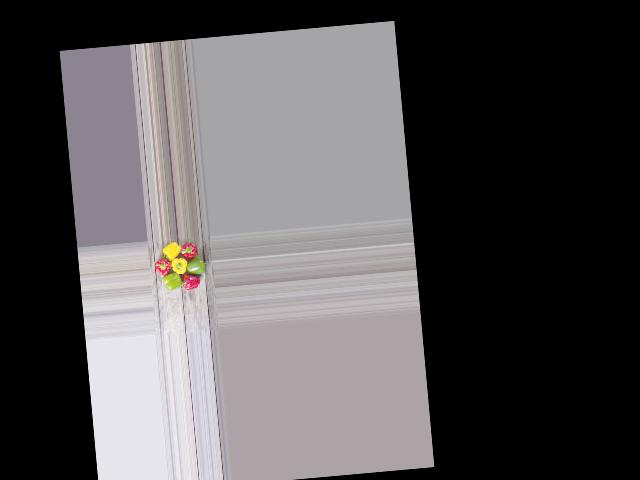bell_pepper: (177, 238, 197, 259)
